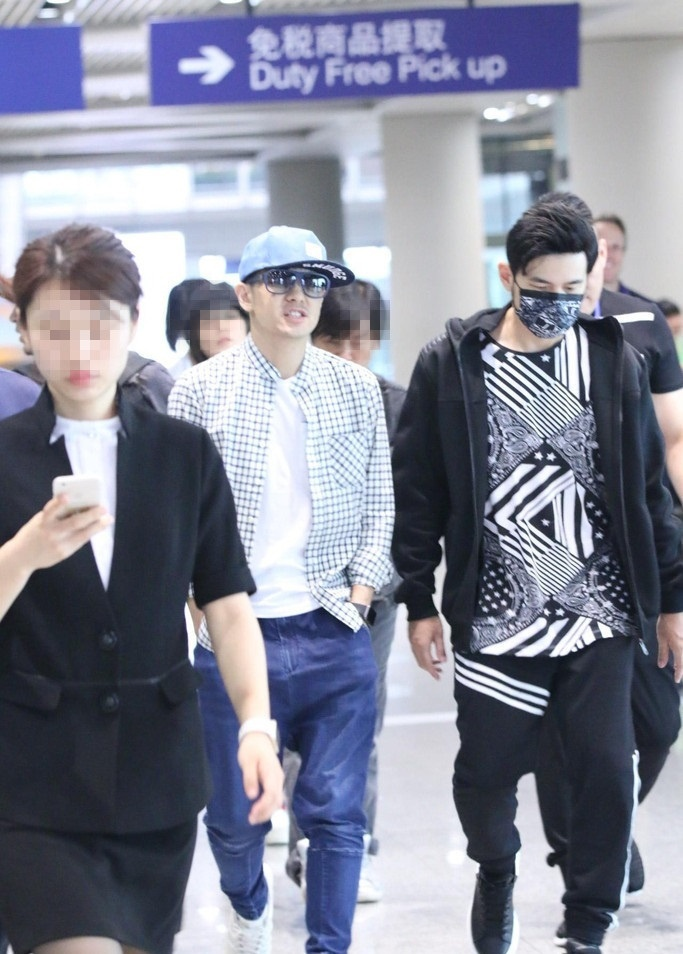Mask: (511, 259, 587, 335)
